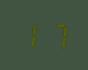one: (19, 19, 42, 49)
seven: (43, 19, 66, 50)
